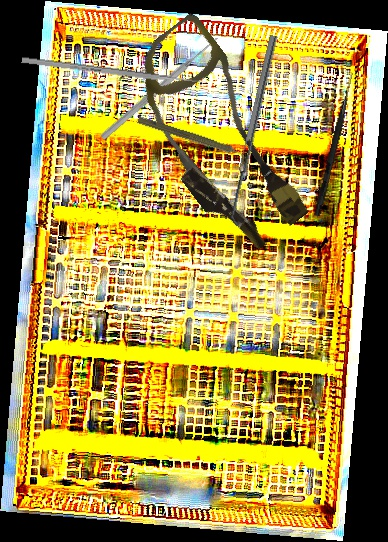Cannula: (104, 11, 332, 262)
Handpiece: (135, 114, 252, 164)
Hook Surgical: (314, 71, 355, 217)
Pusher: (99, 34, 221, 142), (21, 56, 208, 87)
Spatula Surgical: (226, 34, 285, 228)
